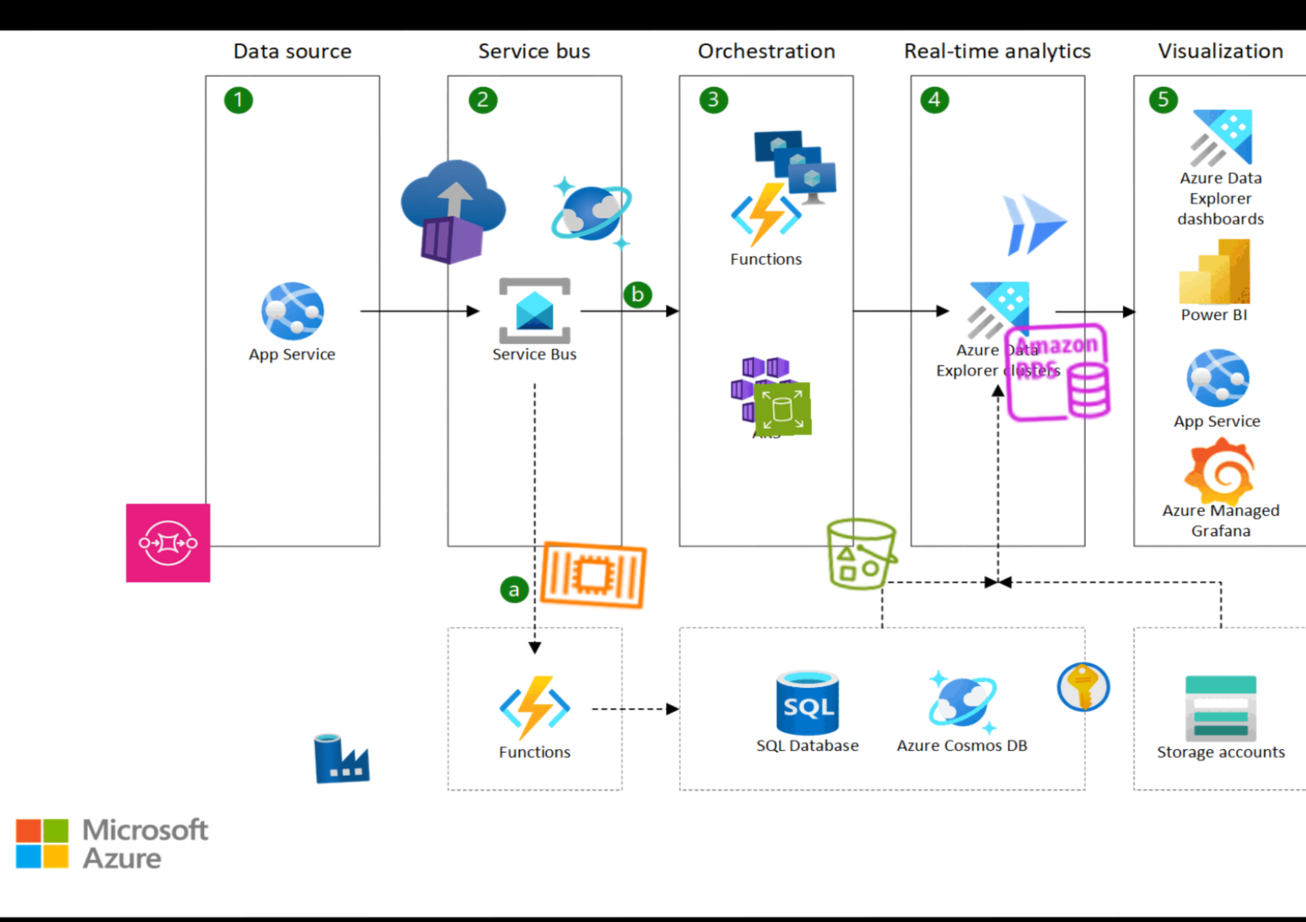aws_amazon_elastic_block_store: (753, 381, 813, 437)
aws_amazon_simple_queue_service: (125, 502, 211, 583)
aws_aurora_amazon_rds_instance: (998, 318, 1115, 427)
aws_elastic_container_service_container_2: (533, 518, 653, 631)
aws_simple_storage_service_bucket_with_objects: (816, 512, 907, 597)
azure_container_instances: (392, 155, 513, 268)
azure_cosmos_db: (547, 173, 635, 255)
azure_data_factories: (311, 730, 371, 785)
azure_key_vaults: (1052, 658, 1114, 715)
azure_vm_scale_sets: (750, 125, 837, 207)
gcp_cloud_run: (989, 180, 1081, 266)
